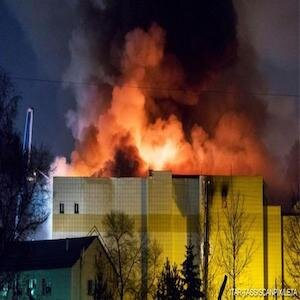fire: (72, 34, 279, 182)
